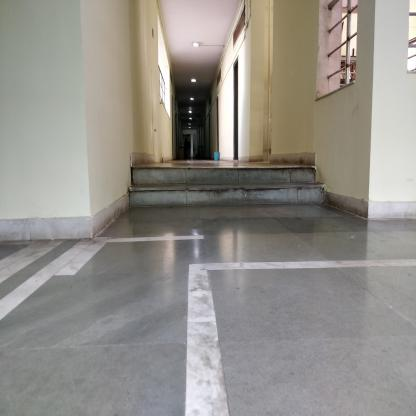stairs: (130, 161, 316, 212)
